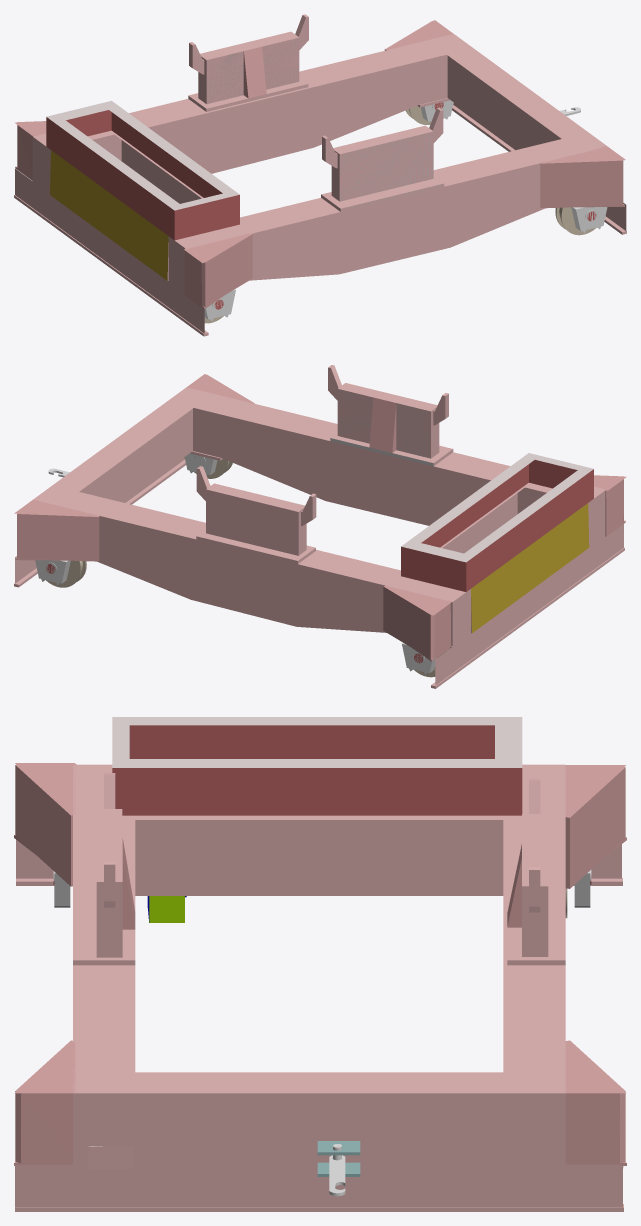
Rendered from tranfercar.dae.
3 renders of one model, top to bottom at view 1: azimuth 30°, elevation 25°; view 2: azimuth 150°, elevation 25°; view 3: azimuth 270°, elevation 25°, orthographic. The views are drawn at different scales.
Visible parts, largest first — view 1: mesh3-geometry_material0_IndexedFaceSet, mesh10-geometry_material6_IndexedFaceSet, mesh2-geometry_material0_IndexedFaceSet, mesh3-geometry_material1_IndexedFaceSet, mesh6-geometry_material1_IndexedFaceSet, mesh57-geometry_material13_IndexedFaceSet, mesh10-geometry_material7_IndexedFaceSet, mesh9-geometry_material1_IndexedFaceSet, mesh54-geometry_material13_IndexedFaceSet, mesh6-geometry_material0_IndexedFaceSet, mesh9-geometry_material0_IndexedFaceSet, mesh6-geometry_material3_IndexedFaceSet (+8 smaller); view 2: mesh3-geometry_material0_IndexedFaceSet, mesh10-geometry_material6_IndexedFaceSet, mesh9-geometry_material0_IndexedFaceSet, mesh2-geometry_material0_IndexedFaceSet, mesh3-geometry_material1_IndexedFaceSet, mesh60-geometry_material13_IndexedFaceSet, mesh10-geometry_material7_IndexedFaceSet, mesh6-geometry_material1_IndexedFaceSet, mesh51-geometry_material13_IndexedFaceSet, mesh6-geometry_material0_IndexedFaceSet, mesh73-geometry_material13_IndexedFaceSet, mesh1-geometry_material0_IndexedFaceSet (+7 smaller); view 3: mesh3-geometry_material0_IndexedFaceSet, mesh10-geometry_material6_IndexedFaceSet, mesh1-geometry_material0_IndexedFaceSet, mesh10-geometry_material7_IndexedFaceSet, mesh6-geometry_material0_IndexedFaceSet, mesh9-geometry_material0_IndexedFaceSet, mesh51-geometry_material13_IndexedFaceSet, mesh54-geometry_material13_IndexedFaceSet, mesh60-geometry_material13_IndexedFaceSet, mesh57-geometry_material13_IndexedFaceSet, mesh2-geometry_material0_IndexedFaceSet, mesh58-geometry_material13_IndexedFaceSet (+7 smaller).
Boxes of the visible parts, x1=… form: mesh3-geometry_material0_IndexedFaceSet: x1=32, y1=34, x2=606, y2=295; mesh10-geometry_material6_IndexedFaceSet: x1=46, y1=110, x2=239, y2=240; mesh2-geometry_material0_IndexedFaceSet: x1=14, y1=168, x2=208, y2=336; mesh3-geometry_material1_IndexedFaceSet: x1=50, y1=150, x2=168, y2=280; mesh6-geometry_material1_IndexedFaceSet: x1=339, y1=131, x2=444, y2=211; mesh57-geometry_material13_IndexedFaceSet: x1=540, y1=146, x2=623, y2=207; mesh10-geometry_material7_IndexedFaceSet: x1=46, y1=100, x2=239, y2=210; mesh9-geometry_material1_IndexedFaceSet: x1=206, y1=37, x2=299, y2=103; mesh54-geometry_material13_IndexedFaceSet: x1=184, y1=233, x2=252, y2=306; mesh6-geometry_material0_IndexedFaceSet: x1=321, y1=125, x2=443, y2=211; mesh9-geometry_material0_IndexedFaceSet: x1=188, y1=31, x2=308, y2=111; mesh6-geometry_material3_IndexedFaceSet: x1=339, y1=132, x2=433, y2=200; mesh3-geometry_material0_IndexedFaceSet: x1=33, y1=387, x2=605, y2=649; mesh10-geometry_material6_IndexedFaceSet: x1=401, y1=460, x2=593, y2=591; mesh9-geometry_material0_IndexedFaceSet: x1=196, y1=483, x2=315, y2=563; mesh2-geometry_material0_IndexedFaceSet: x1=431, y1=524, x2=624, y2=688; mesh3-geometry_material1_IndexedFaceSet: x1=471, y1=503, x2=589, y2=633; mesh60-geometry_material13_IndexedFaceSet: x1=17, y1=500, x2=99, y2=561; mesh10-geometry_material7_IndexedFaceSet: x1=401, y1=453, x2=593, y2=562; mesh6-geometry_material1_IndexedFaceSet: x1=331, y1=389, x2=432, y2=464; mesh51-geometry_material13_IndexedFaceSet: x1=383, y1=585, x2=450, y2=658; mesh6-geometry_material0_IndexedFaceSet: x1=331, y1=383, x2=453, y2=465; mesh73-geometry_material13_IndexedFaceSet: x1=369, y1=397, x2=396, y2=452; mesh1-geometry_material0_IndexedFaceSet: x1=14, y1=457, x2=185, y2=587; mesh3-geometry_material0_IndexedFaceSet: x1=69, y1=764, x2=565, y2=1168; mesh10-geometry_material6_IndexedFaceSet: x1=112, y1=725, x2=522, y2=815; mesh1-geometry_material0_IndexedFaceSet: x1=15, y1=1164, x2=623, y2=1211; mesh10-geometry_material7_IndexedFaceSet: x1=112, y1=717, x2=522, y2=767; mesh6-geometry_material0_IndexedFaceSet: x1=73, y1=809, x2=135, y2=965; mesh9-geometry_material0_IndexedFaceSet: x1=507, y1=814, x2=565, y2=965; mesh51-geometry_material13_IndexedFaceSet: x1=564, y1=766, x2=625, y2=888; mesh54-geometry_material13_IndexedFaceSet: x1=15, y1=763, x2=76, y2=886; mesh60-geometry_material13_IndexedFaceSet: x1=565, y1=1040, x2=625, y2=1163; mesh57-geometry_material13_IndexedFaceSet: x1=15, y1=1040, x2=75, y2=1163; mesh2-geometry_material0_IndexedFaceSet: x1=16, y1=840, x2=622, y2=885; mesh58-geometry_material13_IndexedFaceSet: x1=14, y1=1041, x2=75, y2=1093.
Size of the model in its own units: 7.73 by 2.3 by 5.36.
